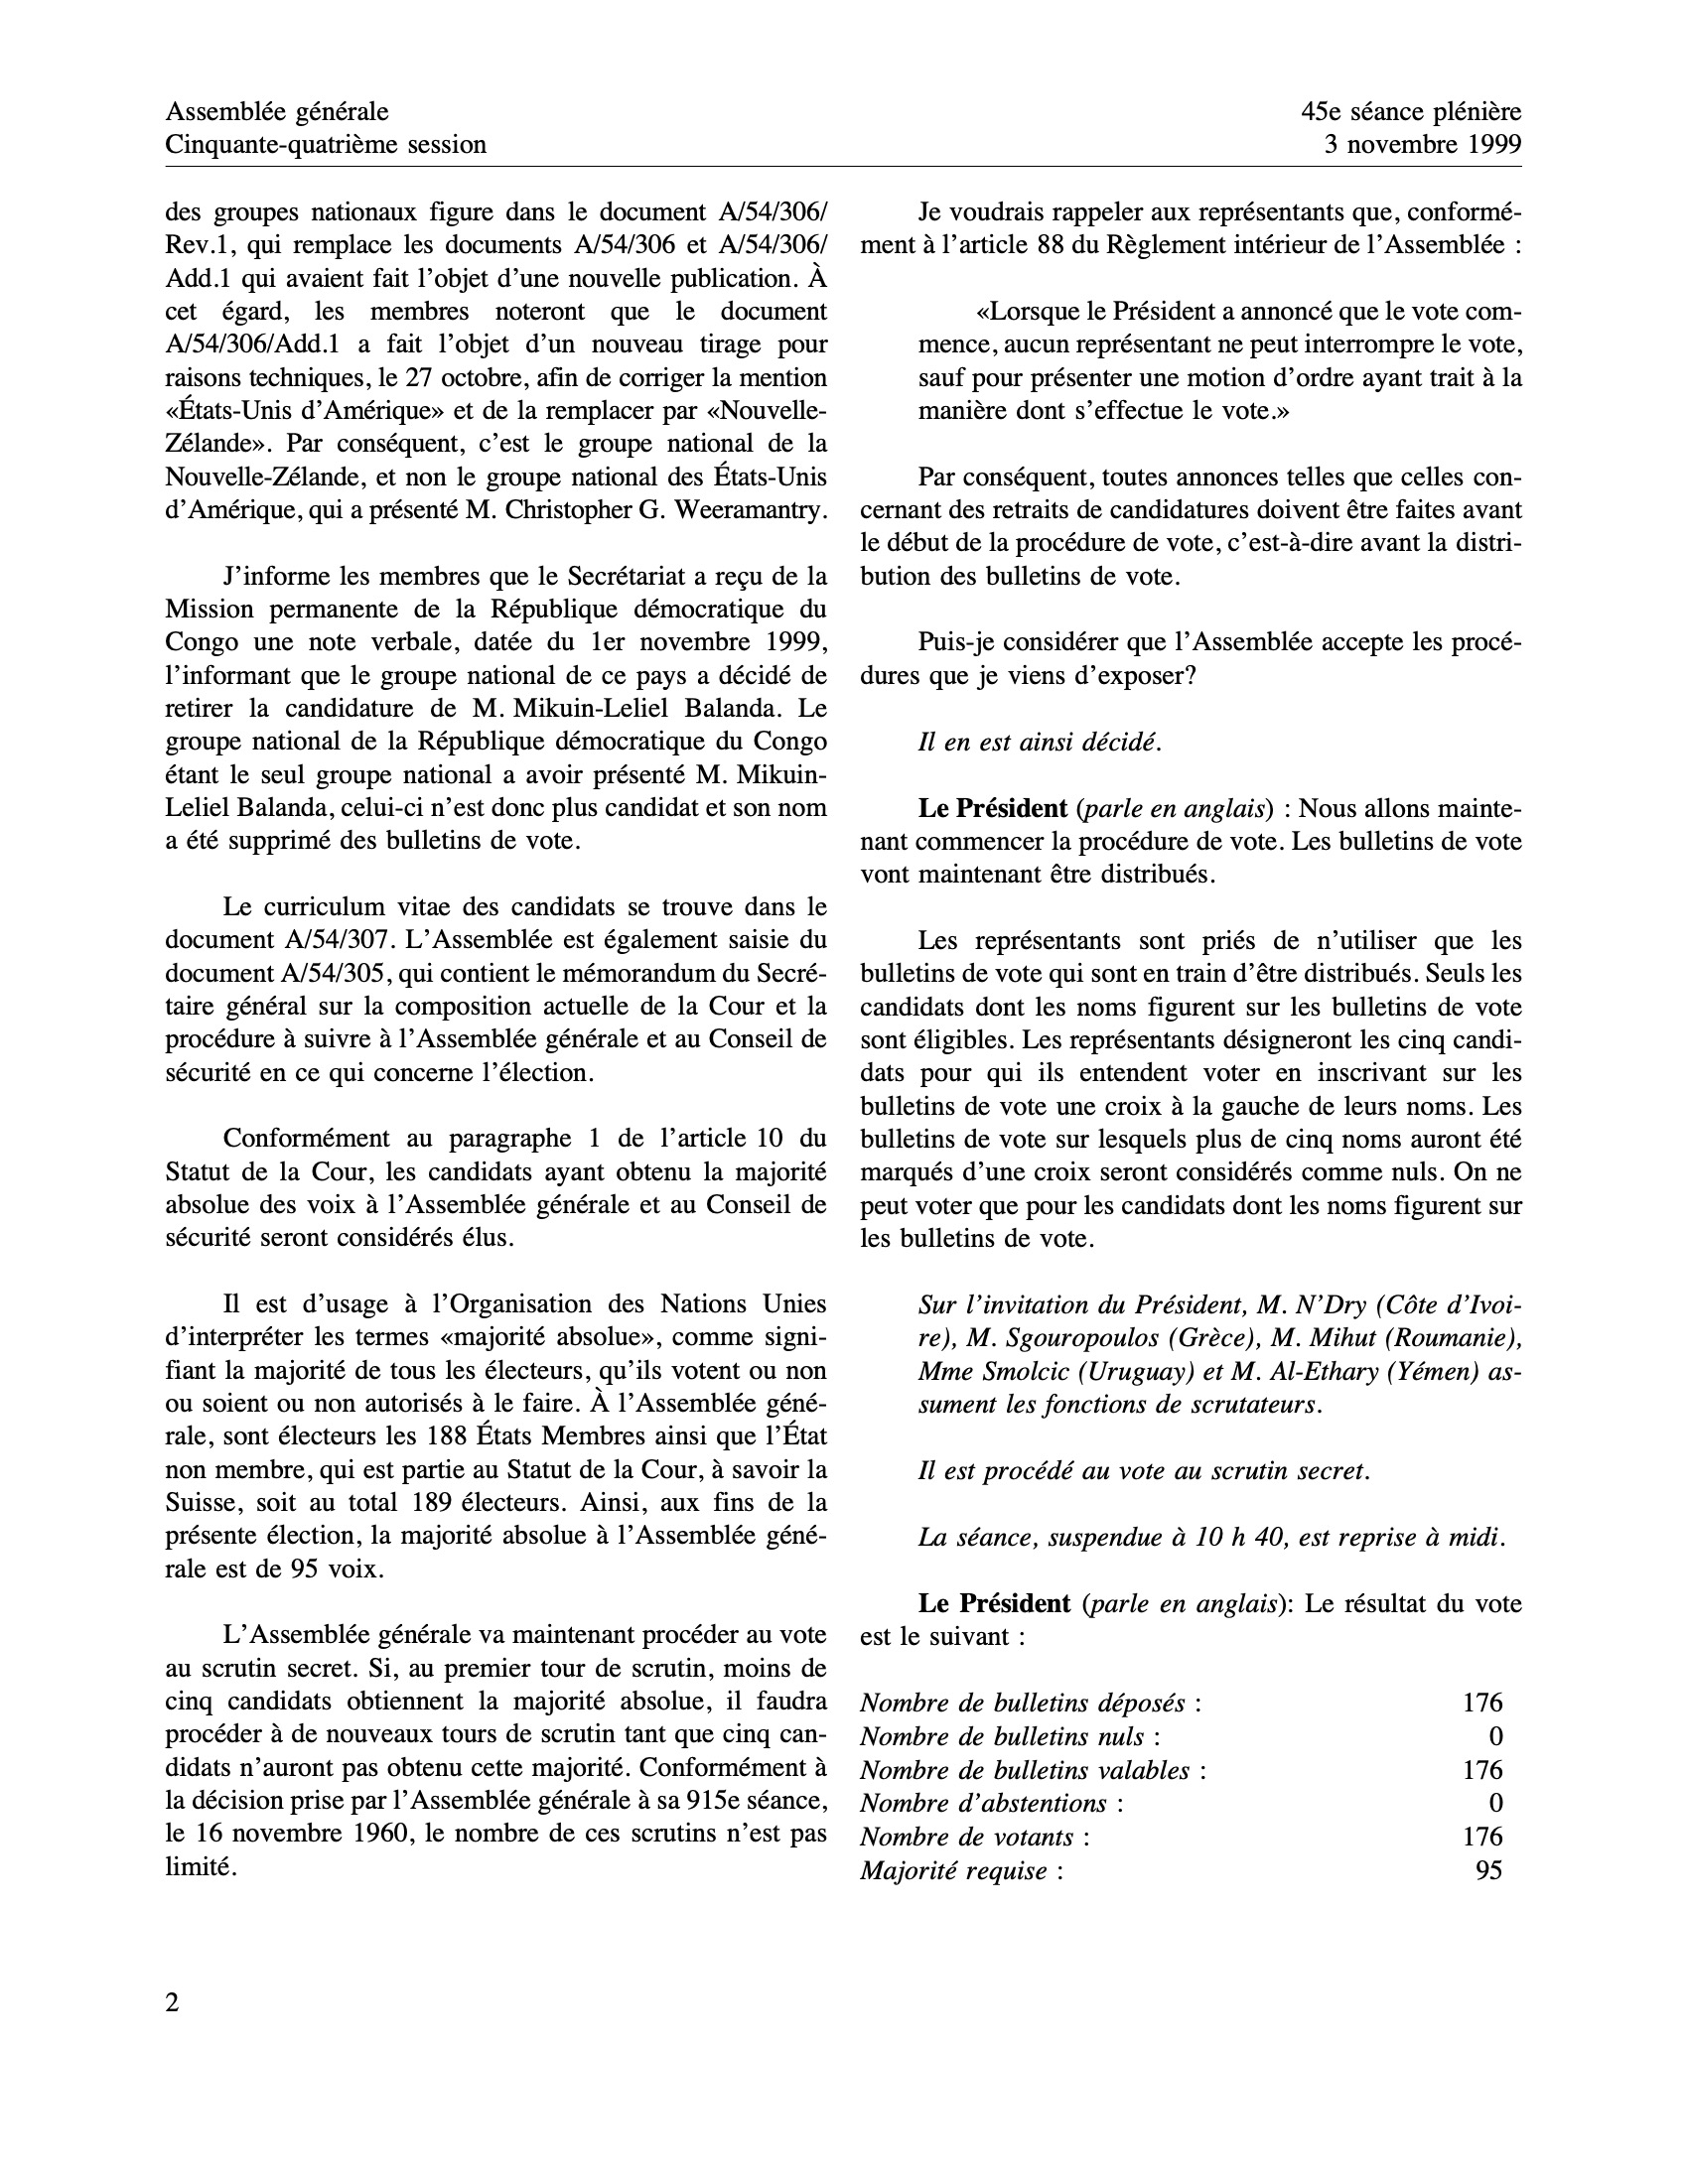MainZone-Continued: (155, 192, 838, 529)
MainZone-P: (858, 923, 1531, 1257), (158, 556, 838, 860), (159, 1285, 835, 1587), (159, 1617, 835, 1888), (159, 888, 835, 1092), (158, 1118, 835, 1256), (856, 461, 1533, 595), (908, 1284, 1532, 1425), (896, 292, 1532, 429), (854, 790, 1531, 895), (856, 1586, 1529, 1664), (856, 622, 1530, 699), (850, 194, 1536, 259), (908, 1450, 1531, 1492), (908, 1518, 1523, 1558), (895, 722, 1169, 767)
StampZone: (157, 90, 495, 165), (1288, 88, 1530, 163)
TableZone-Head: (856, 1678, 1535, 1897)
TitlePageZone: (158, 1984, 188, 2023)
